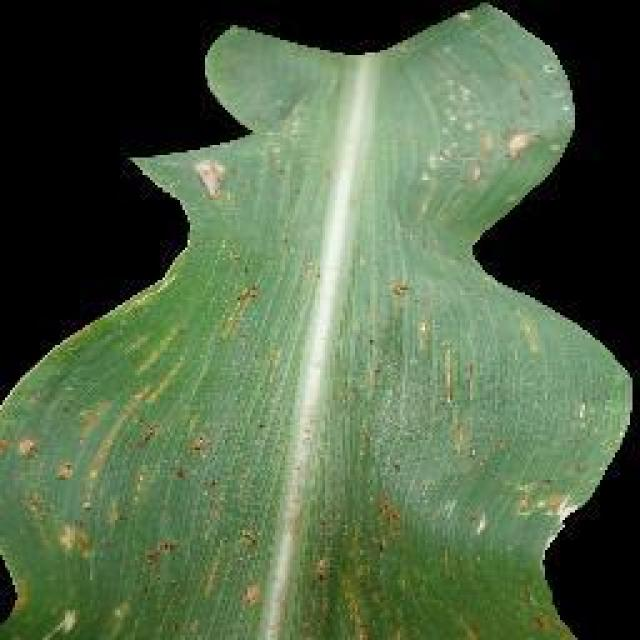Corn Common Rust: (153, 110, 530, 640)
